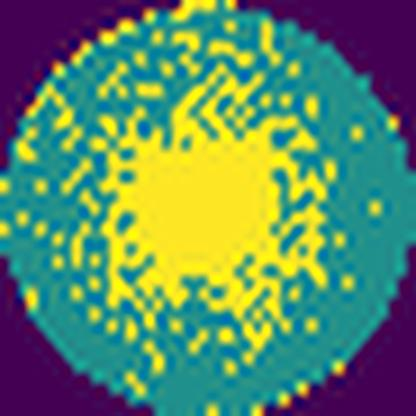Center: (98, 63, 330, 332)
